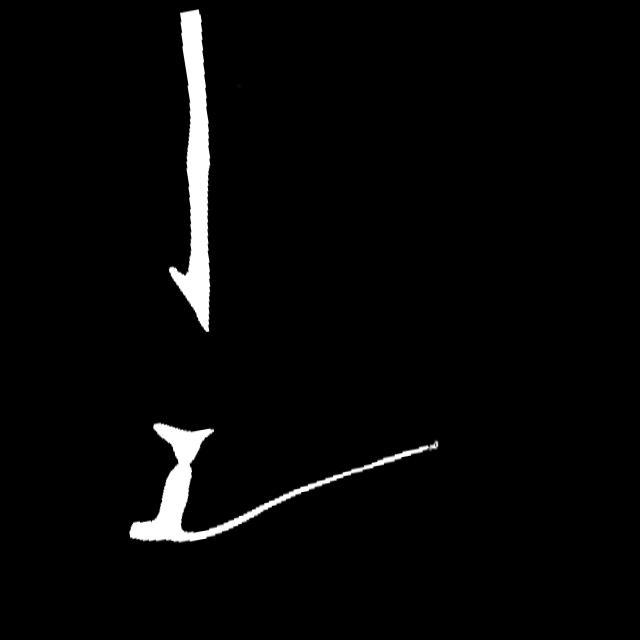stp: (413, 425, 458, 468)
